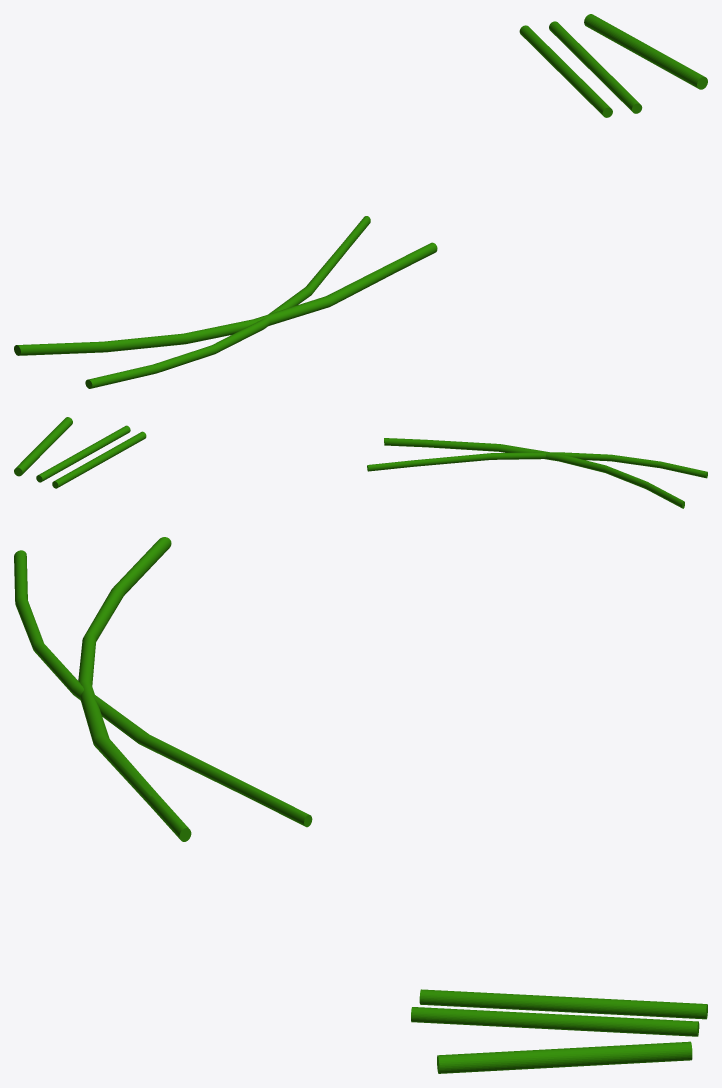
The model's file is DV_Khung xuong te bao (1).fbx.
3 views of the same model, one above another, from view 1: azimuth 30°, elevation 25°; view 2: azimuth 150°, elevation 25°; view 3: azimuth 270°, elevation 25° (orthographic). The views are drawn at different scales.
Visible parts, largest first — view 1: Khung xuong tb, Cylinder.008; view 2: Khung xuong tb, Cylinder.008; view 3: Cylinder.008, Khung xuong tb.
Part boxes in pixels (x1,y1,x2,y2): Khung xuong tb: (14, 216, 437, 388); Cylinder.008: (519, 14, 707, 117); Khung xuong tb: (367, 438, 707, 508); Cylinder.008: (14, 417, 146, 488); Cylinder.008: (411, 989, 707, 1073); Khung xuong tb: (14, 537, 312, 841).
Size of the model in its own units: 77.72 by 1.86 by 43.16.
